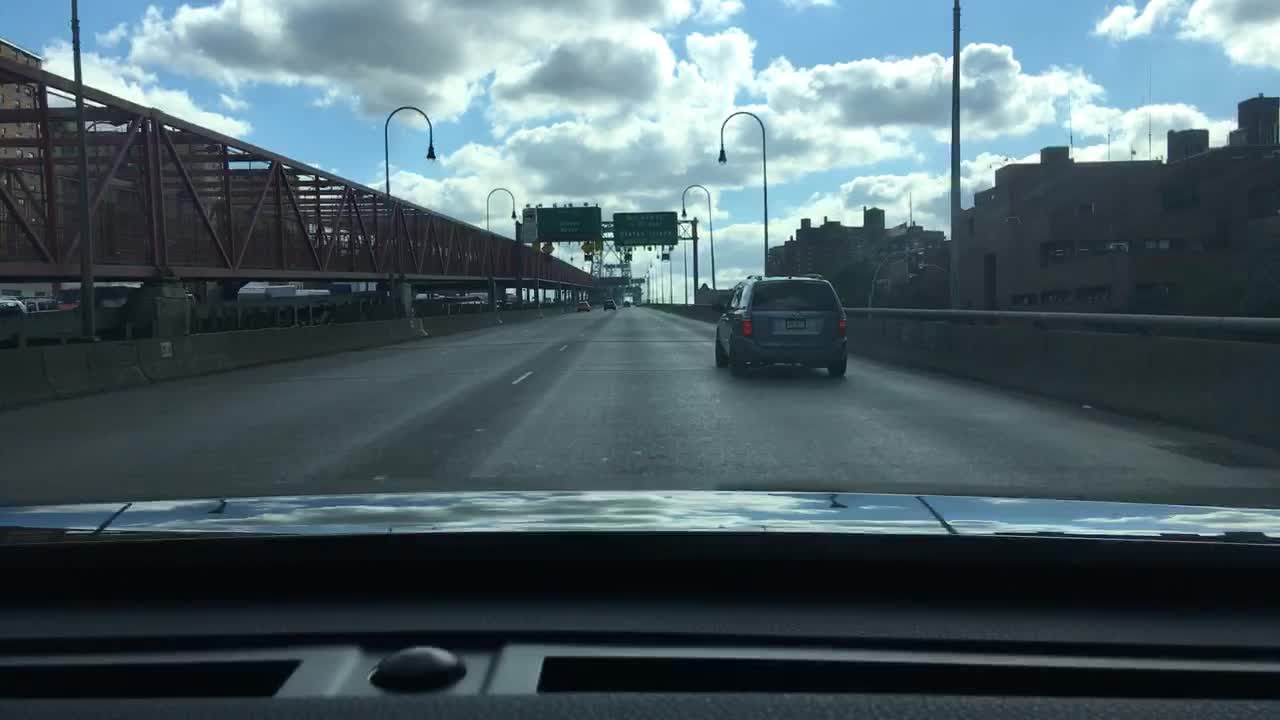bus: (103, 289, 141, 308), (445, 296, 479, 303)
car: (714, 273, 852, 379), (20, 297, 61, 313), (0, 298, 28, 313), (602, 297, 618, 312), (575, 299, 590, 312), (503, 297, 516, 310), (539, 295, 553, 306), (516, 297, 529, 308), (495, 297, 504, 309), (621, 298, 630, 309), (478, 299, 488, 305)
traffic sign: (538, 204, 599, 241), (612, 212, 674, 246), (579, 239, 593, 253), (540, 243, 553, 254)
truck: (238, 281, 295, 297), (295, 287, 330, 296), (417, 293, 439, 299)
